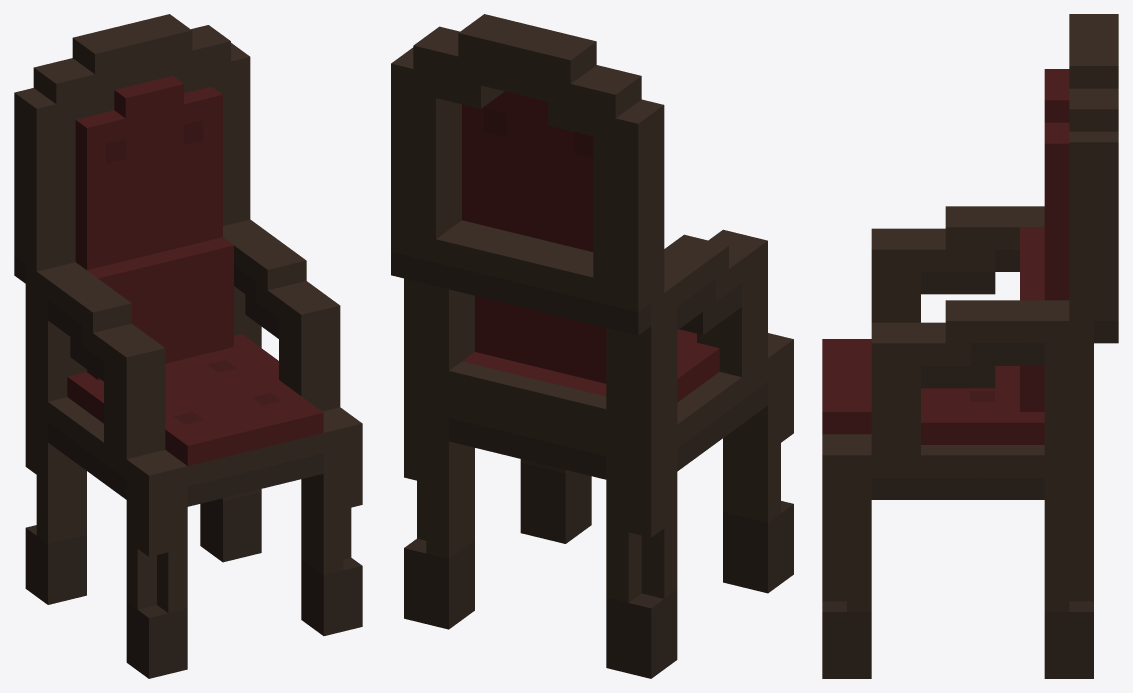
The model's file is Chair.fbx.
3 renders of one model, left to right at view 1: azimuth 30°, elevation 25°; view 2: azimuth 150°, elevation 25°; view 3: azimuth 270°, elevation 25°, orthographic. The views are drawn at different scales.
Visible parts, largest first — view 1: Chair.Merged; view 2: Chair.Merged; view 3: Chair.Merged.
Boxes of the visible parts, <box> form: Chair.Merged: <box>14,14,362,678</box>; Chair.Merged: <box>391,14,793,678</box>; Chair.Merged: <box>822,14,1118,678</box>.
Bounding box in the file's own units: 0.737 × 1.74 × 0.804.
